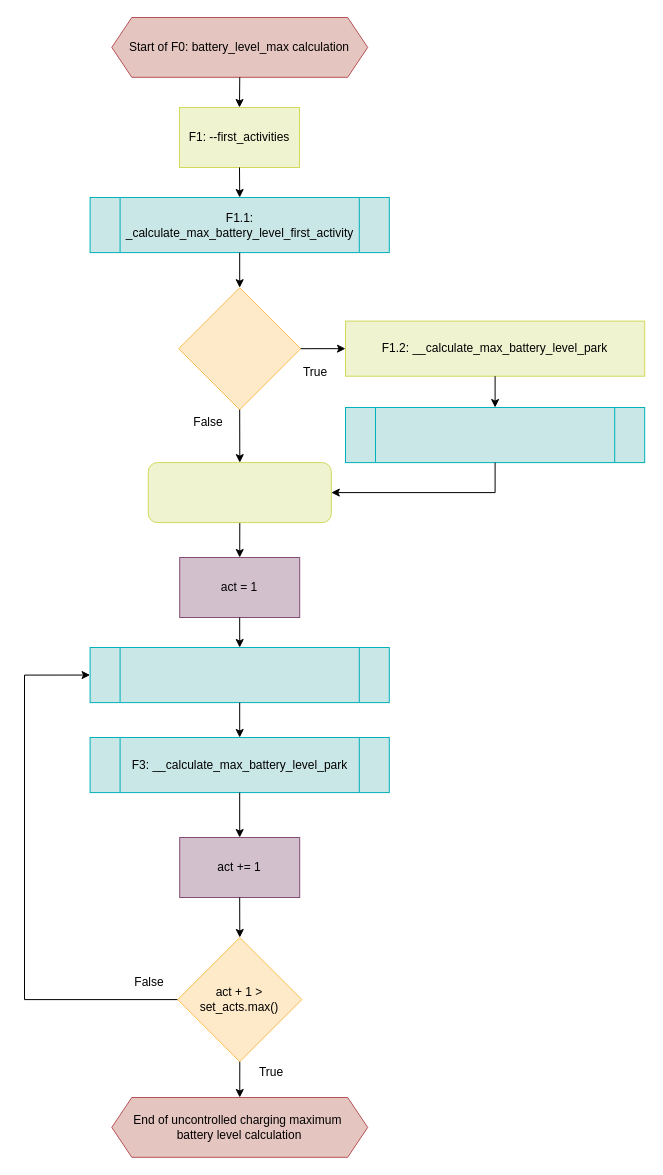
Image size: 663x1175. Some labels were removed from this diagram. The shapes that lost their labels are listed below. From the top down, each one's box as (x1, y1, x2, y2) in pixels, then its label:
(178, 287, 301, 410): split overnight trips?
(344, 406, 645, 463): F1.2.1: _max_charge_volume_per_parking_activity
(147, 462, 331, 523): set_acts = range(1,['park_id'].max() +1)
(89, 646, 389, 703): F2: __calculate_max_battery_level_trip
